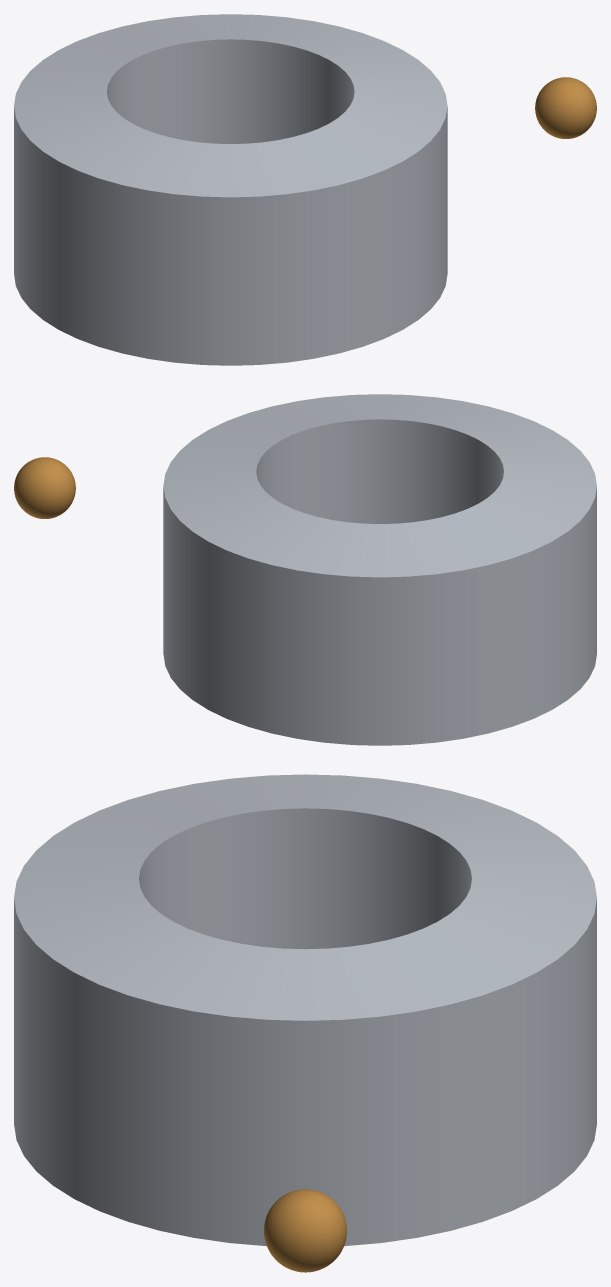
File: default-blender.glb
3 views of the same model, one above another, from view 1: azimuth 30°, elevation 25°; view 2: azimuth 150°, elevation 25°; view 3: azimuth 270°, elevation 25° (orthographic). The views are drawn at different scales.
Parts seen in each view (by area): view 1: bushing, preserved; view 2: bushing, preserved; view 3: bushing, preserved.
Boxes of the visible parts, x1=… form: bushing: x1=14, y1=14, x2=447, y2=365; preserved: x1=535, y1=77, x2=596, y2=138; bushing: x1=163, y1=394, x2=596, y2=745; preserved: x1=14, y1=457, x2=75, y2=518; bushing: x1=14, y1=774, x2=596, y2=1245; preserved: x1=264, y1=1189, x2=346, y2=1272.
Bounding box in the file's own units: 0.041 × 0.013 × 0.028.
